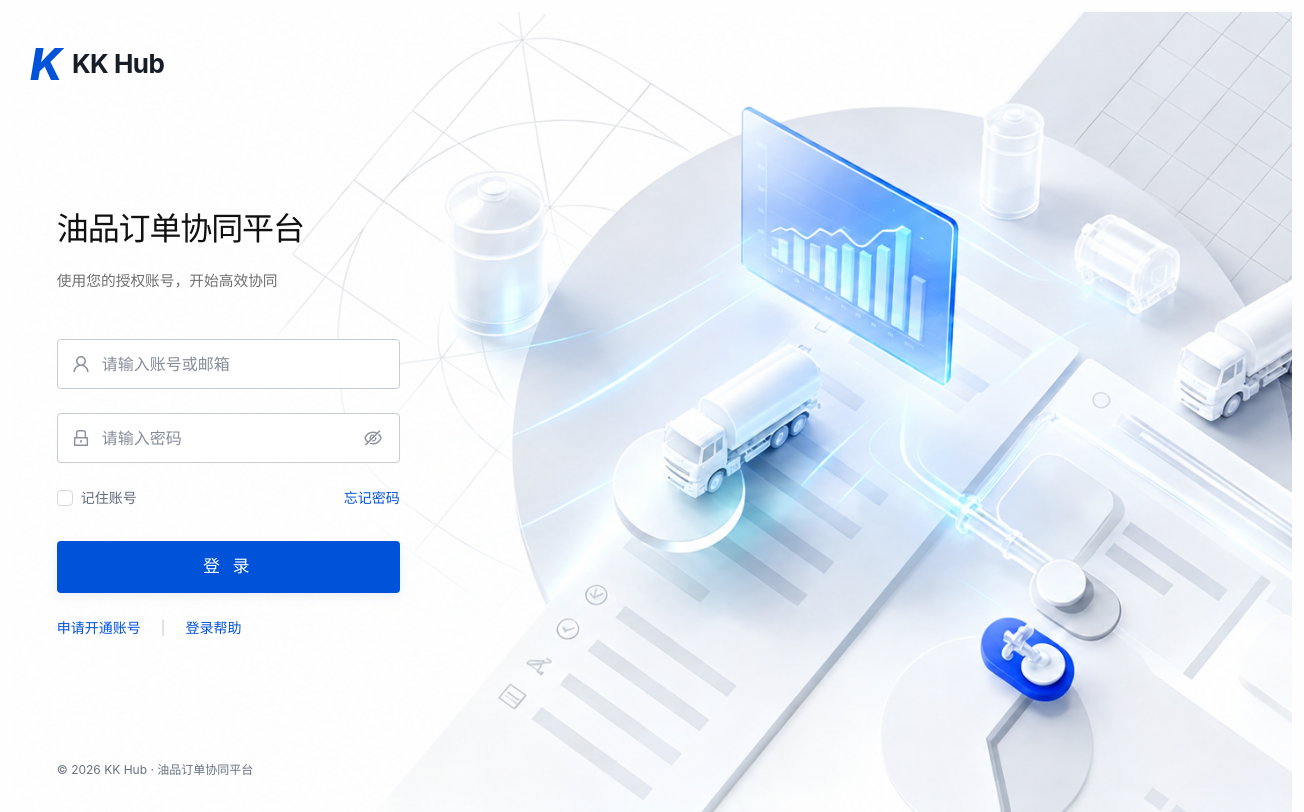
Scenario: Vue login › shows server errors and allows retry without losing the form
This screenshot has width=1304, height=812.
Type "test-admin" into the field named "账号". click: coordinates (243, 364)
box: x1=102 y1=350 x2=385 y2=378
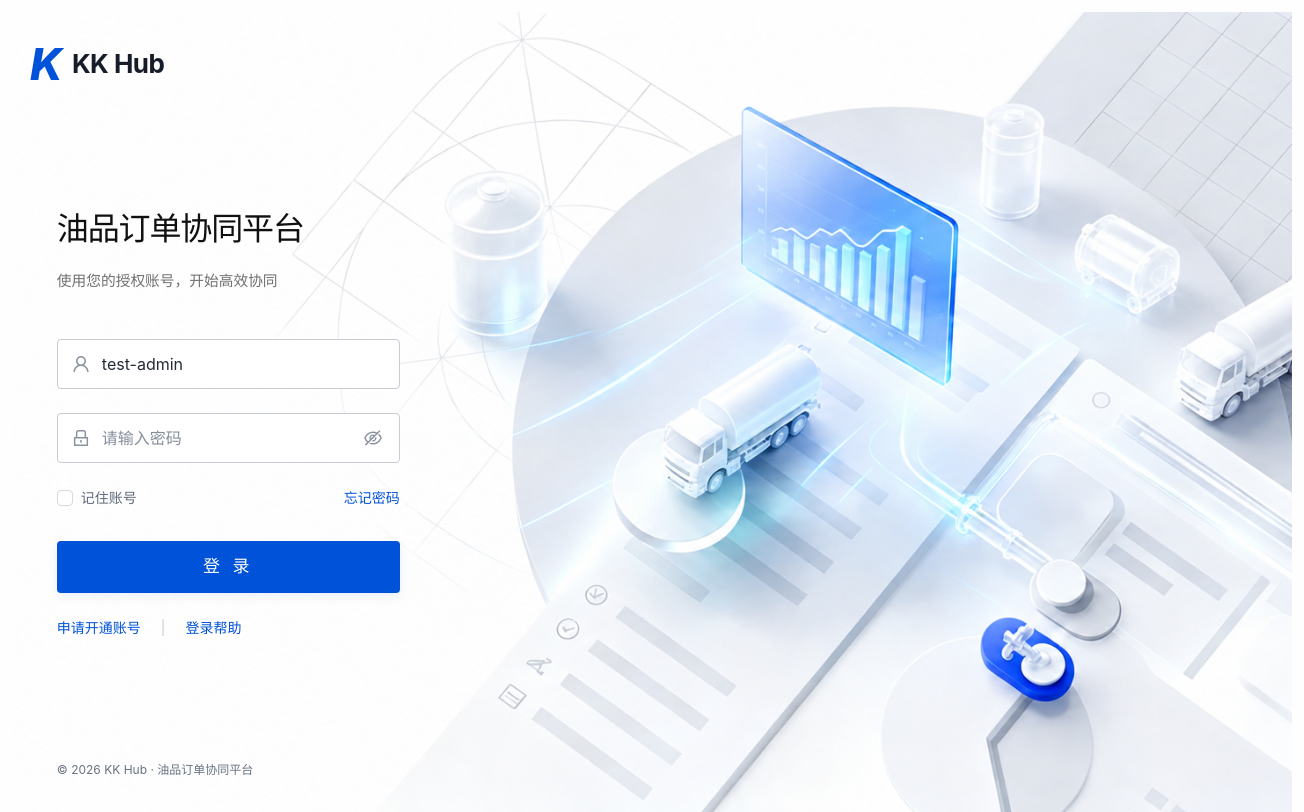
Type "test-only-password" into the password field named "密码". click: coordinates (229, 438)
box: x1=102 y1=424 x2=357 y2=452
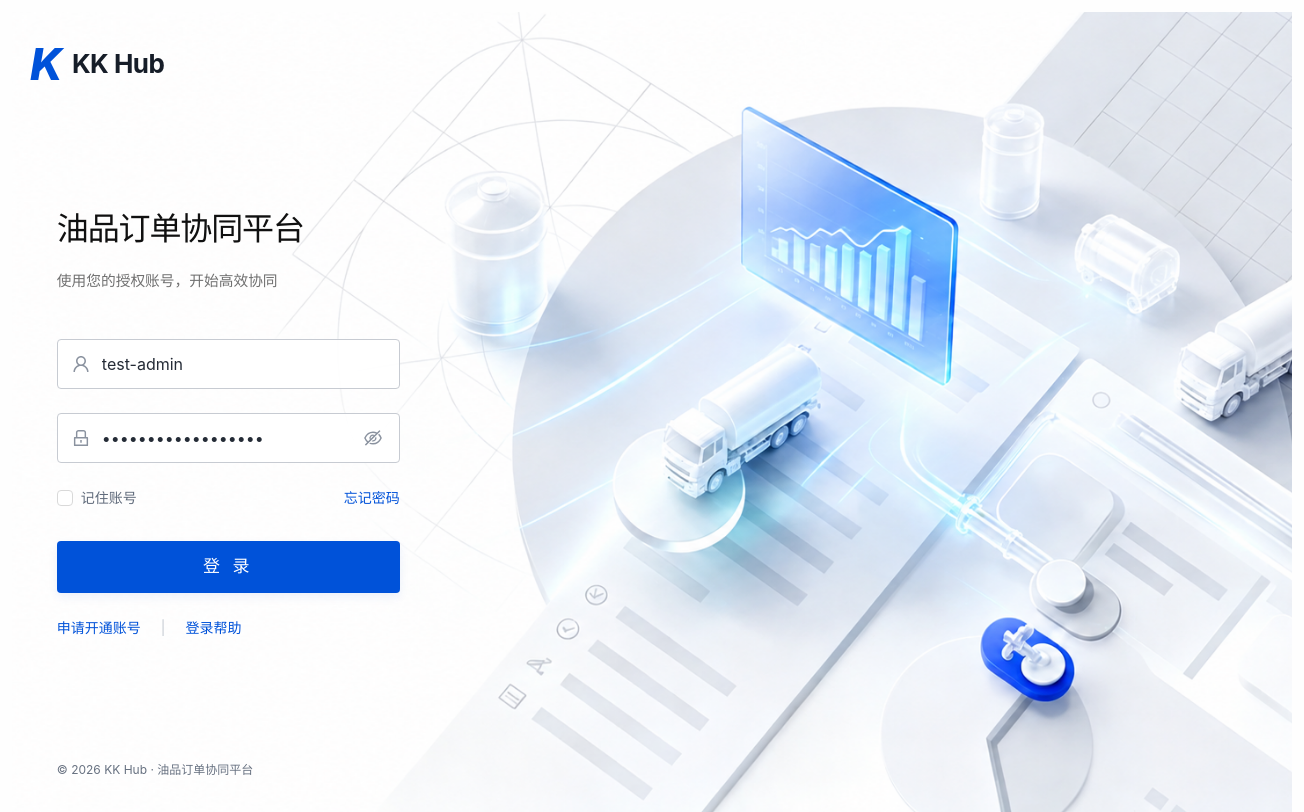
Submit the form, box x1=57 y1=338 x2=400 y2=592
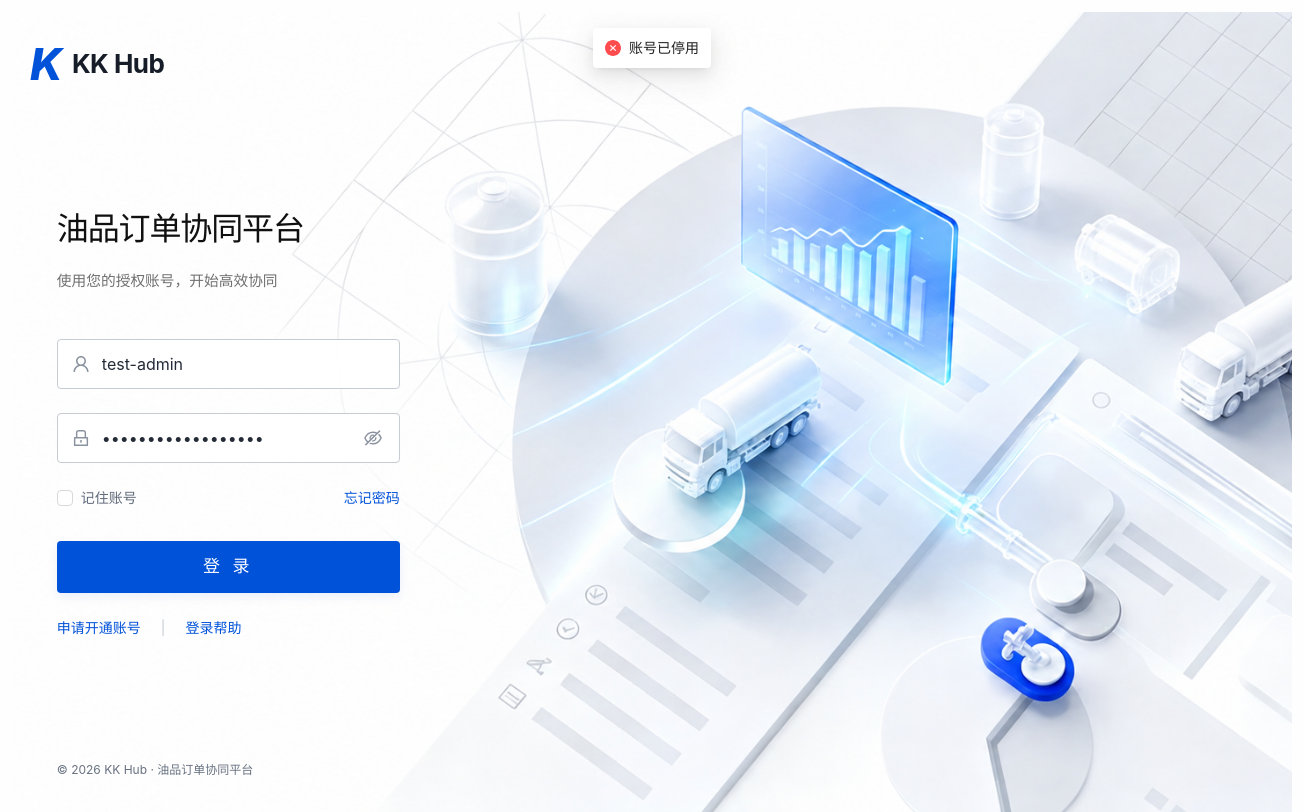
expect the text "账号已停用" is shown: met, box x1=629 y1=39 x2=699 y2=56
